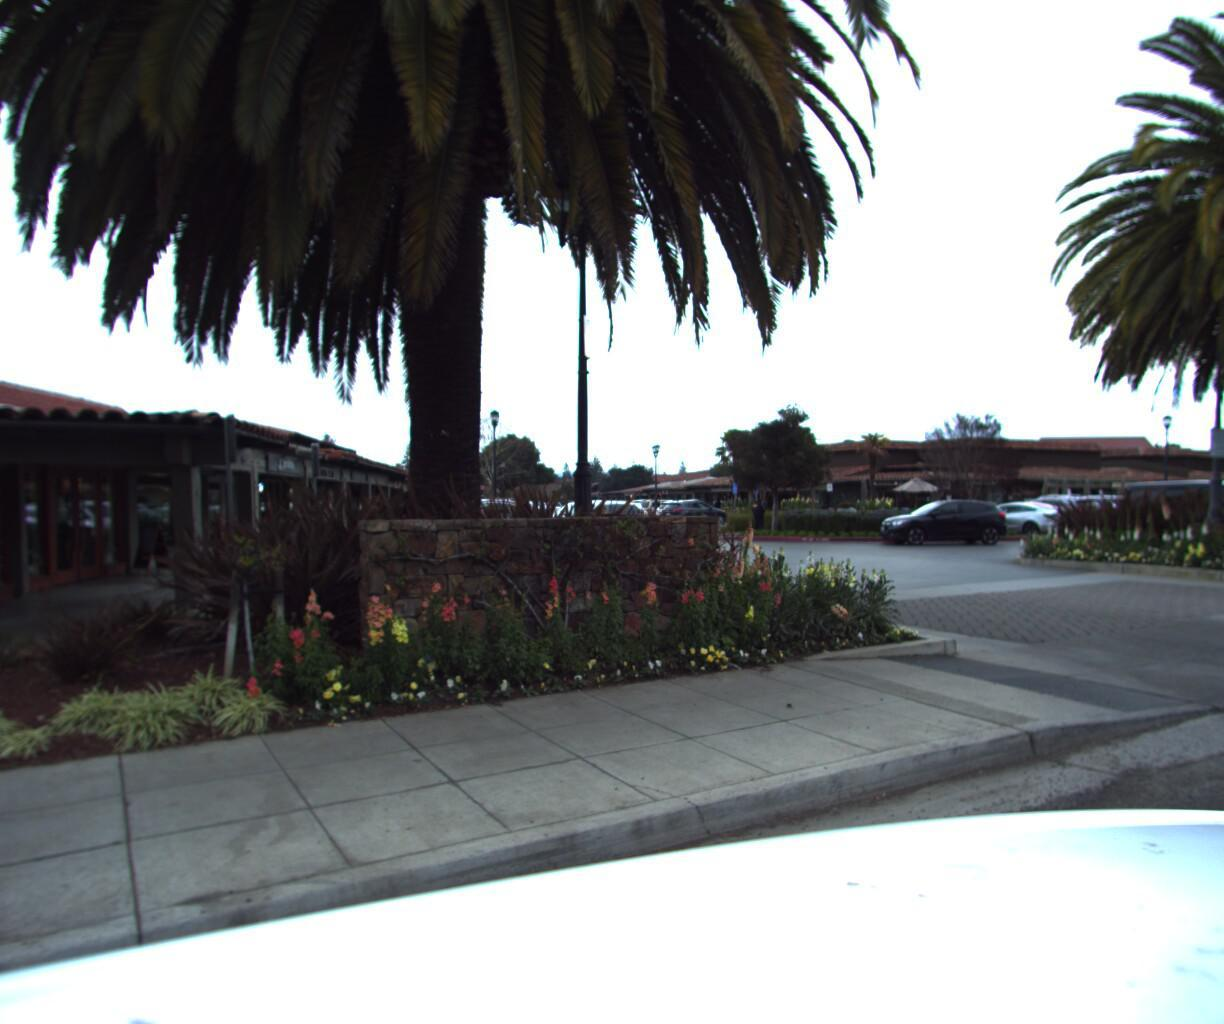car: (1117, 476, 1224, 550)
